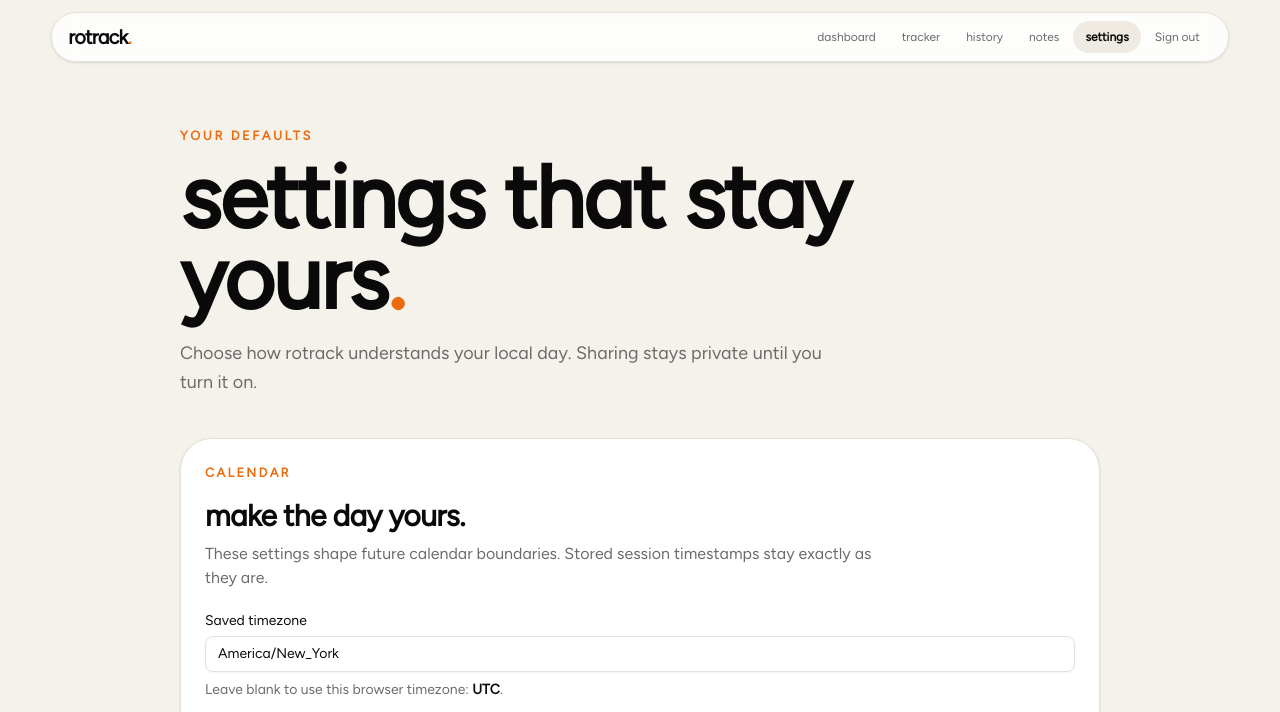
SettingsPage › rejects an invalid IANA timezone before sending it
The image size is (1280, 712).
Replace the text in the field labelled "Saved timezone" with "not/a/timezone" at coordinates (640, 654), box [205,636,1075,672]
(page scrolled)
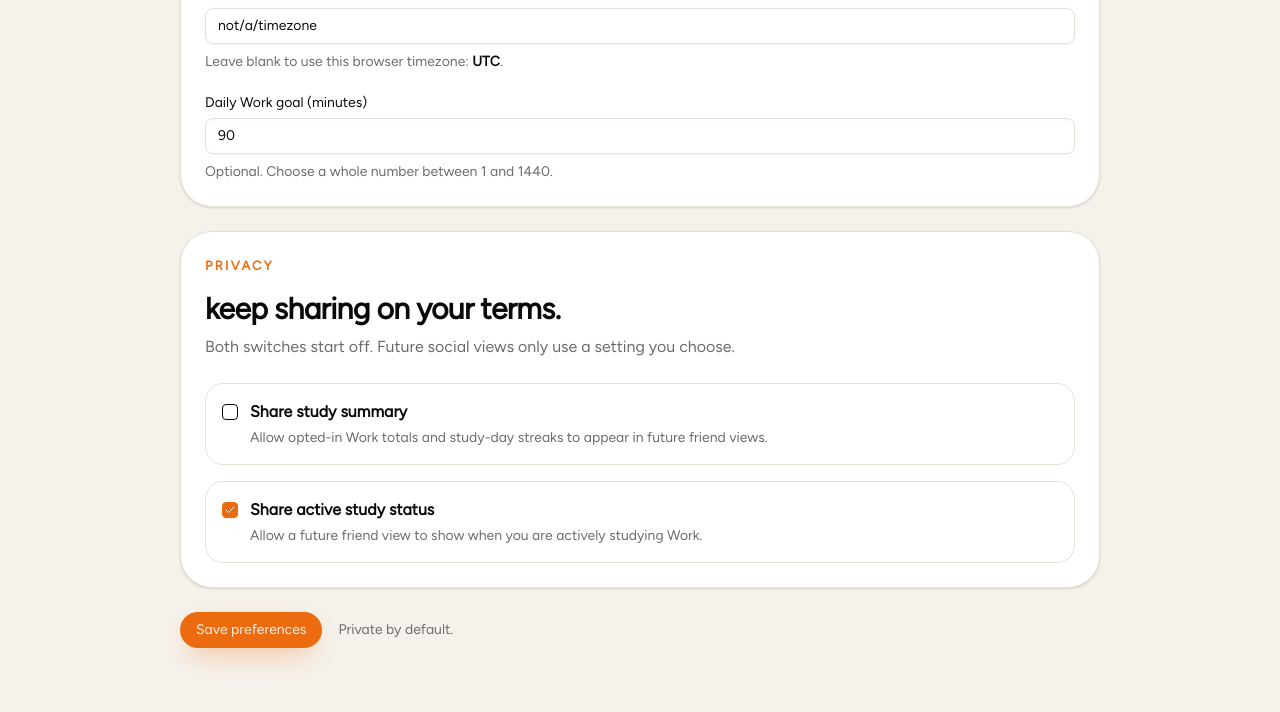
Click the button "Save preferences" at coordinates (251, 630), box [180,612,322,648]
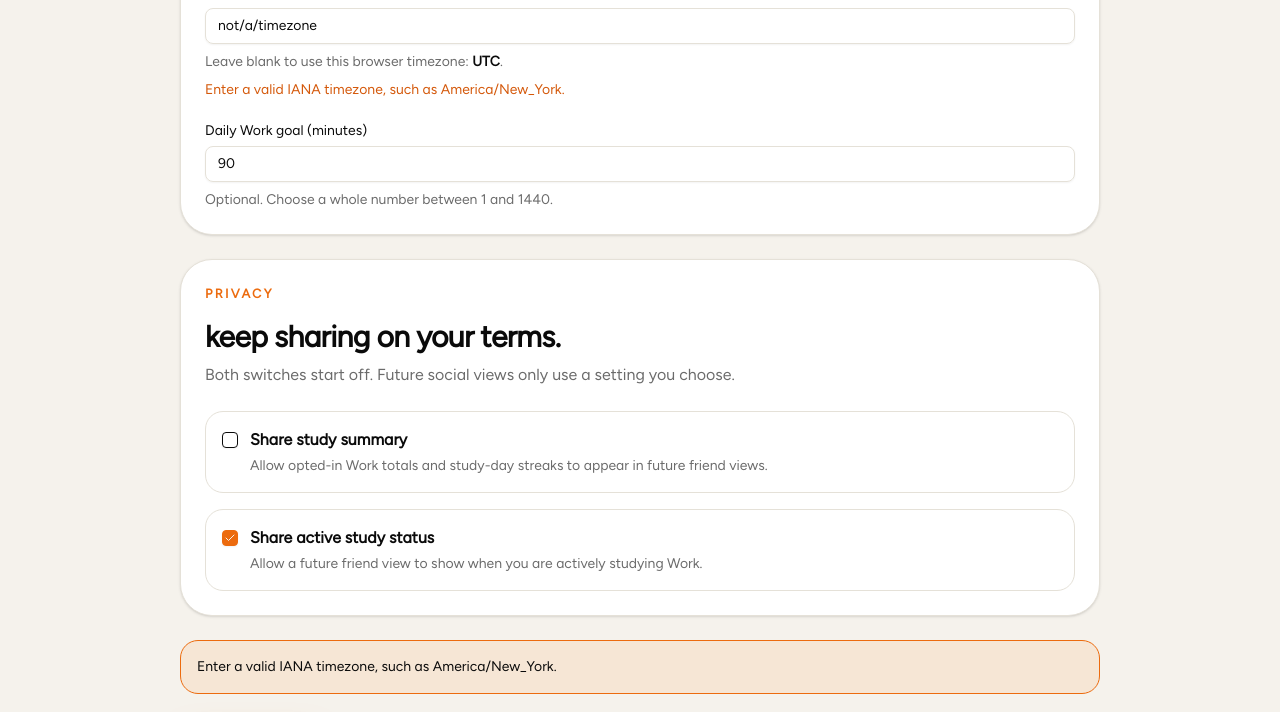
Expected: the message shows "valid IANA timezone", [197,658,557,675]
